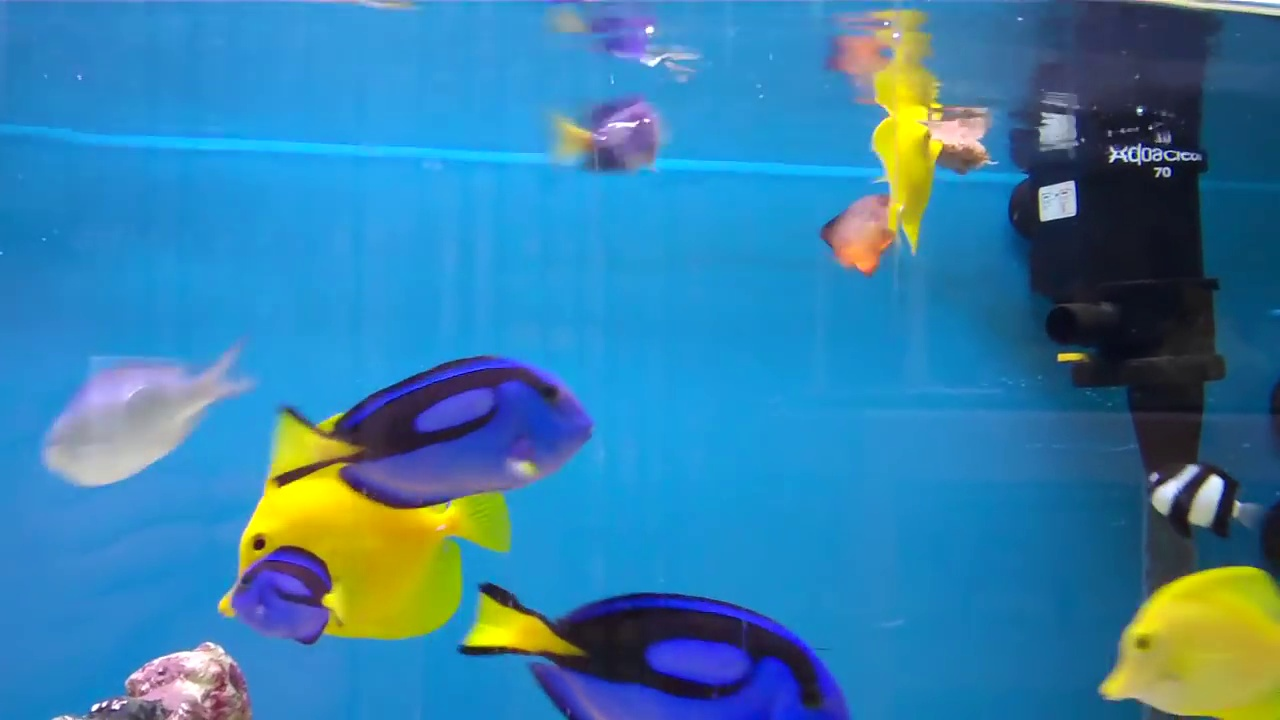blue tang surgeonfish: (257, 346, 586, 497), (205, 542, 350, 643)
saddle butterfly fish: (194, 421, 508, 641), (1075, 544, 1280, 720), (871, 81, 952, 268)
